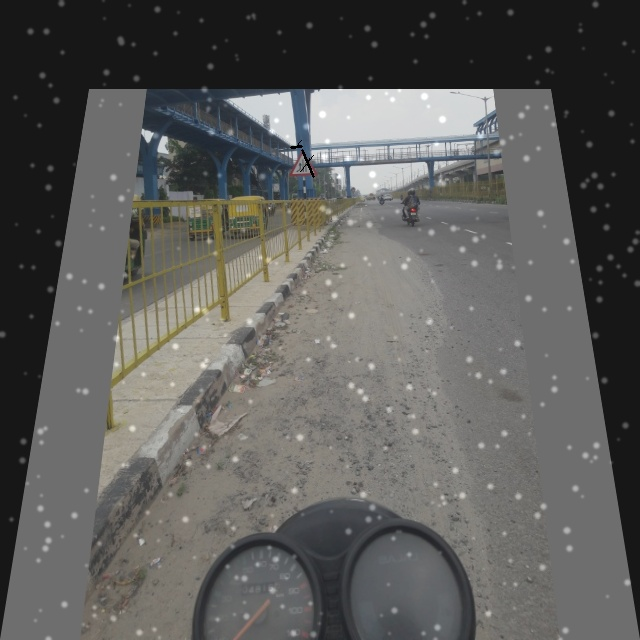Merge_Traffic_Ahead: (286, 145, 319, 178)
